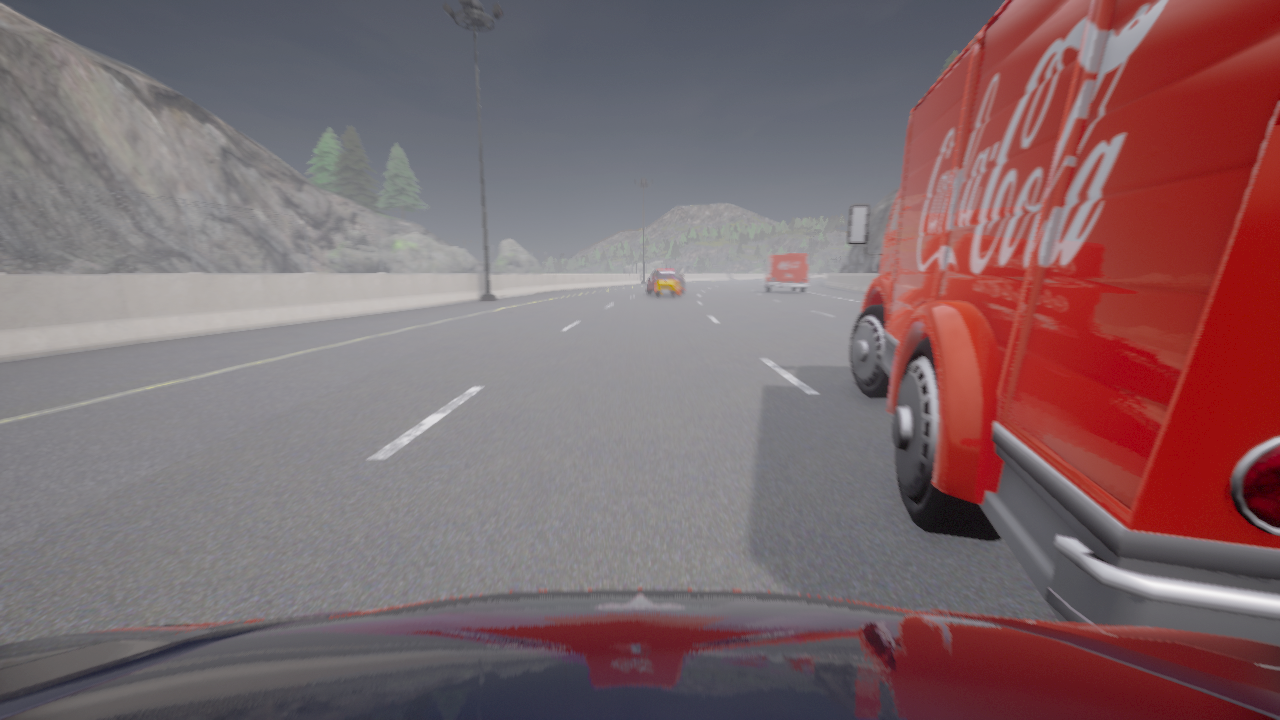cyclist: (847, 0, 1279, 644), (0, 588, 1279, 719), (762, 253, 808, 292), (646, 269, 684, 294), (654, 270, 681, 297)
